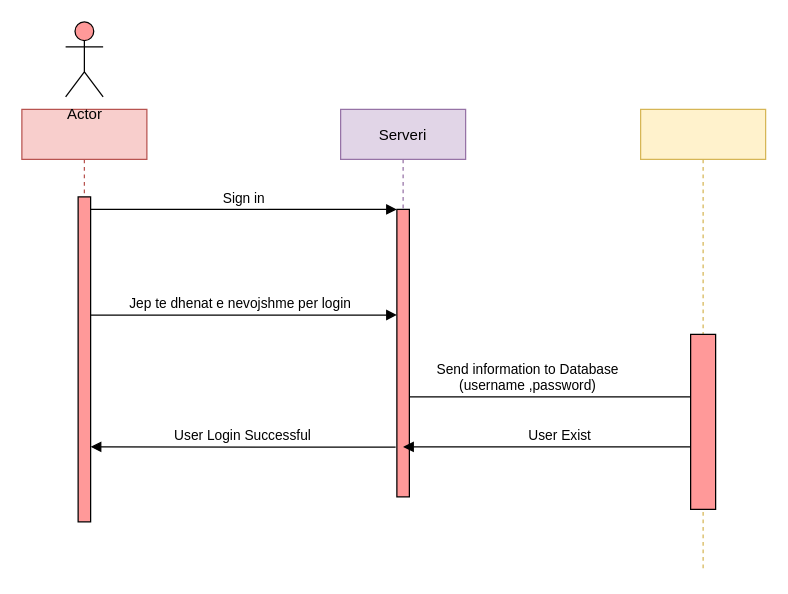
Some shapes in this 788 by 594 pixel diagram are drawn without their labels. Here are the shapes that lost their labels. From the top down, the box of each, then its label:
(21, 108, 147, 484): Perdoruesi (useri)
(639, 108, 766, 572): Database
